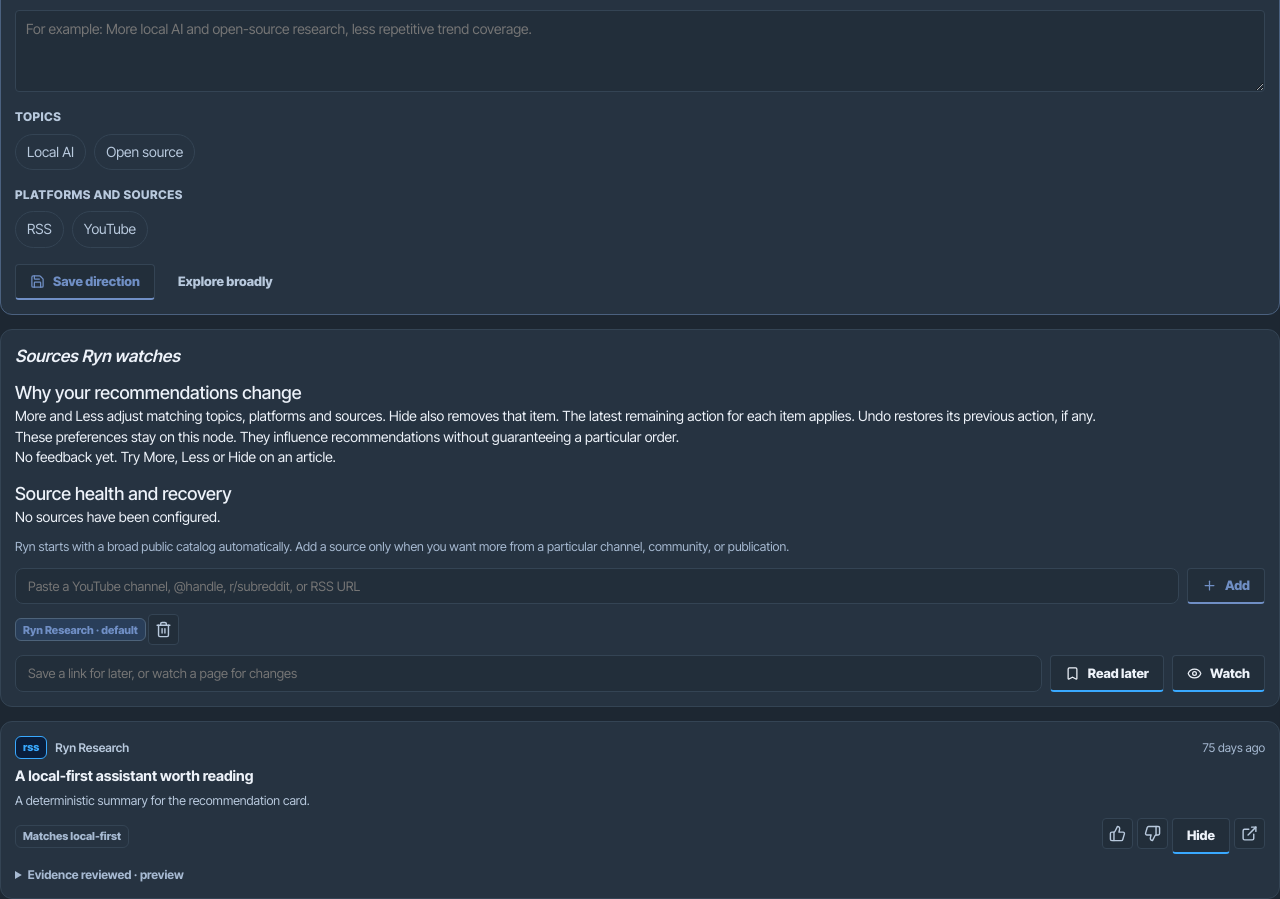
Test case: For You feedback and consumption › removes Hide items only after the node confirms its refreshed ranking
(page scrolled)
Expected: the button "A local-first assistant worth reading" is shown, [15,765,1265,786]
Click the button "Hide" at coordinates (1201, 836), box [1172,818,1230,854]
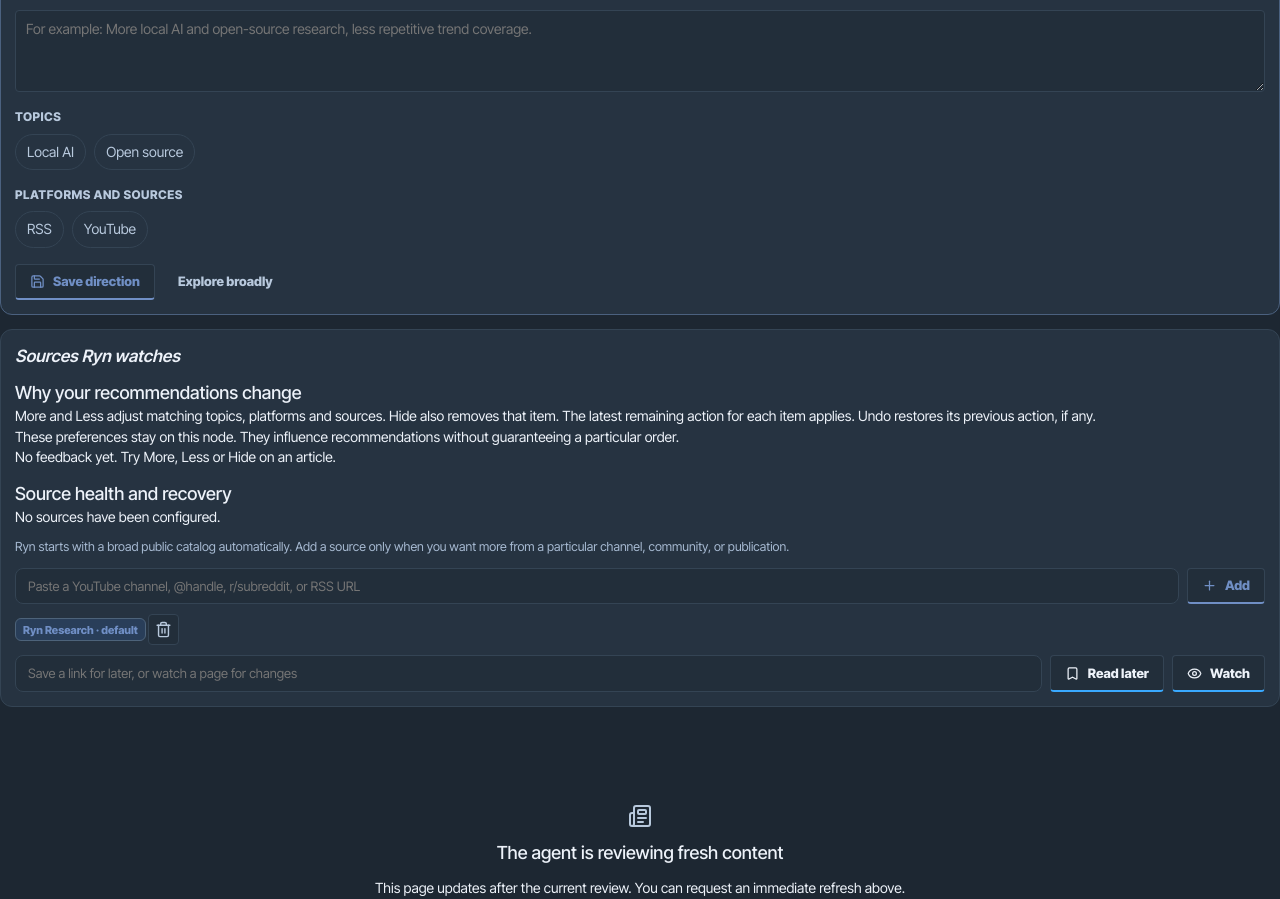
Expected: the button "A local-first assistant worth reading" is gone
